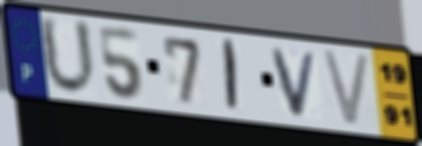5: (96, 23, 145, 103)
7: (160, 34, 205, 105)
I: (222, 36, 240, 115)
U: (37, 13, 100, 100)
V: (318, 47, 374, 130), (269, 46, 321, 120)
